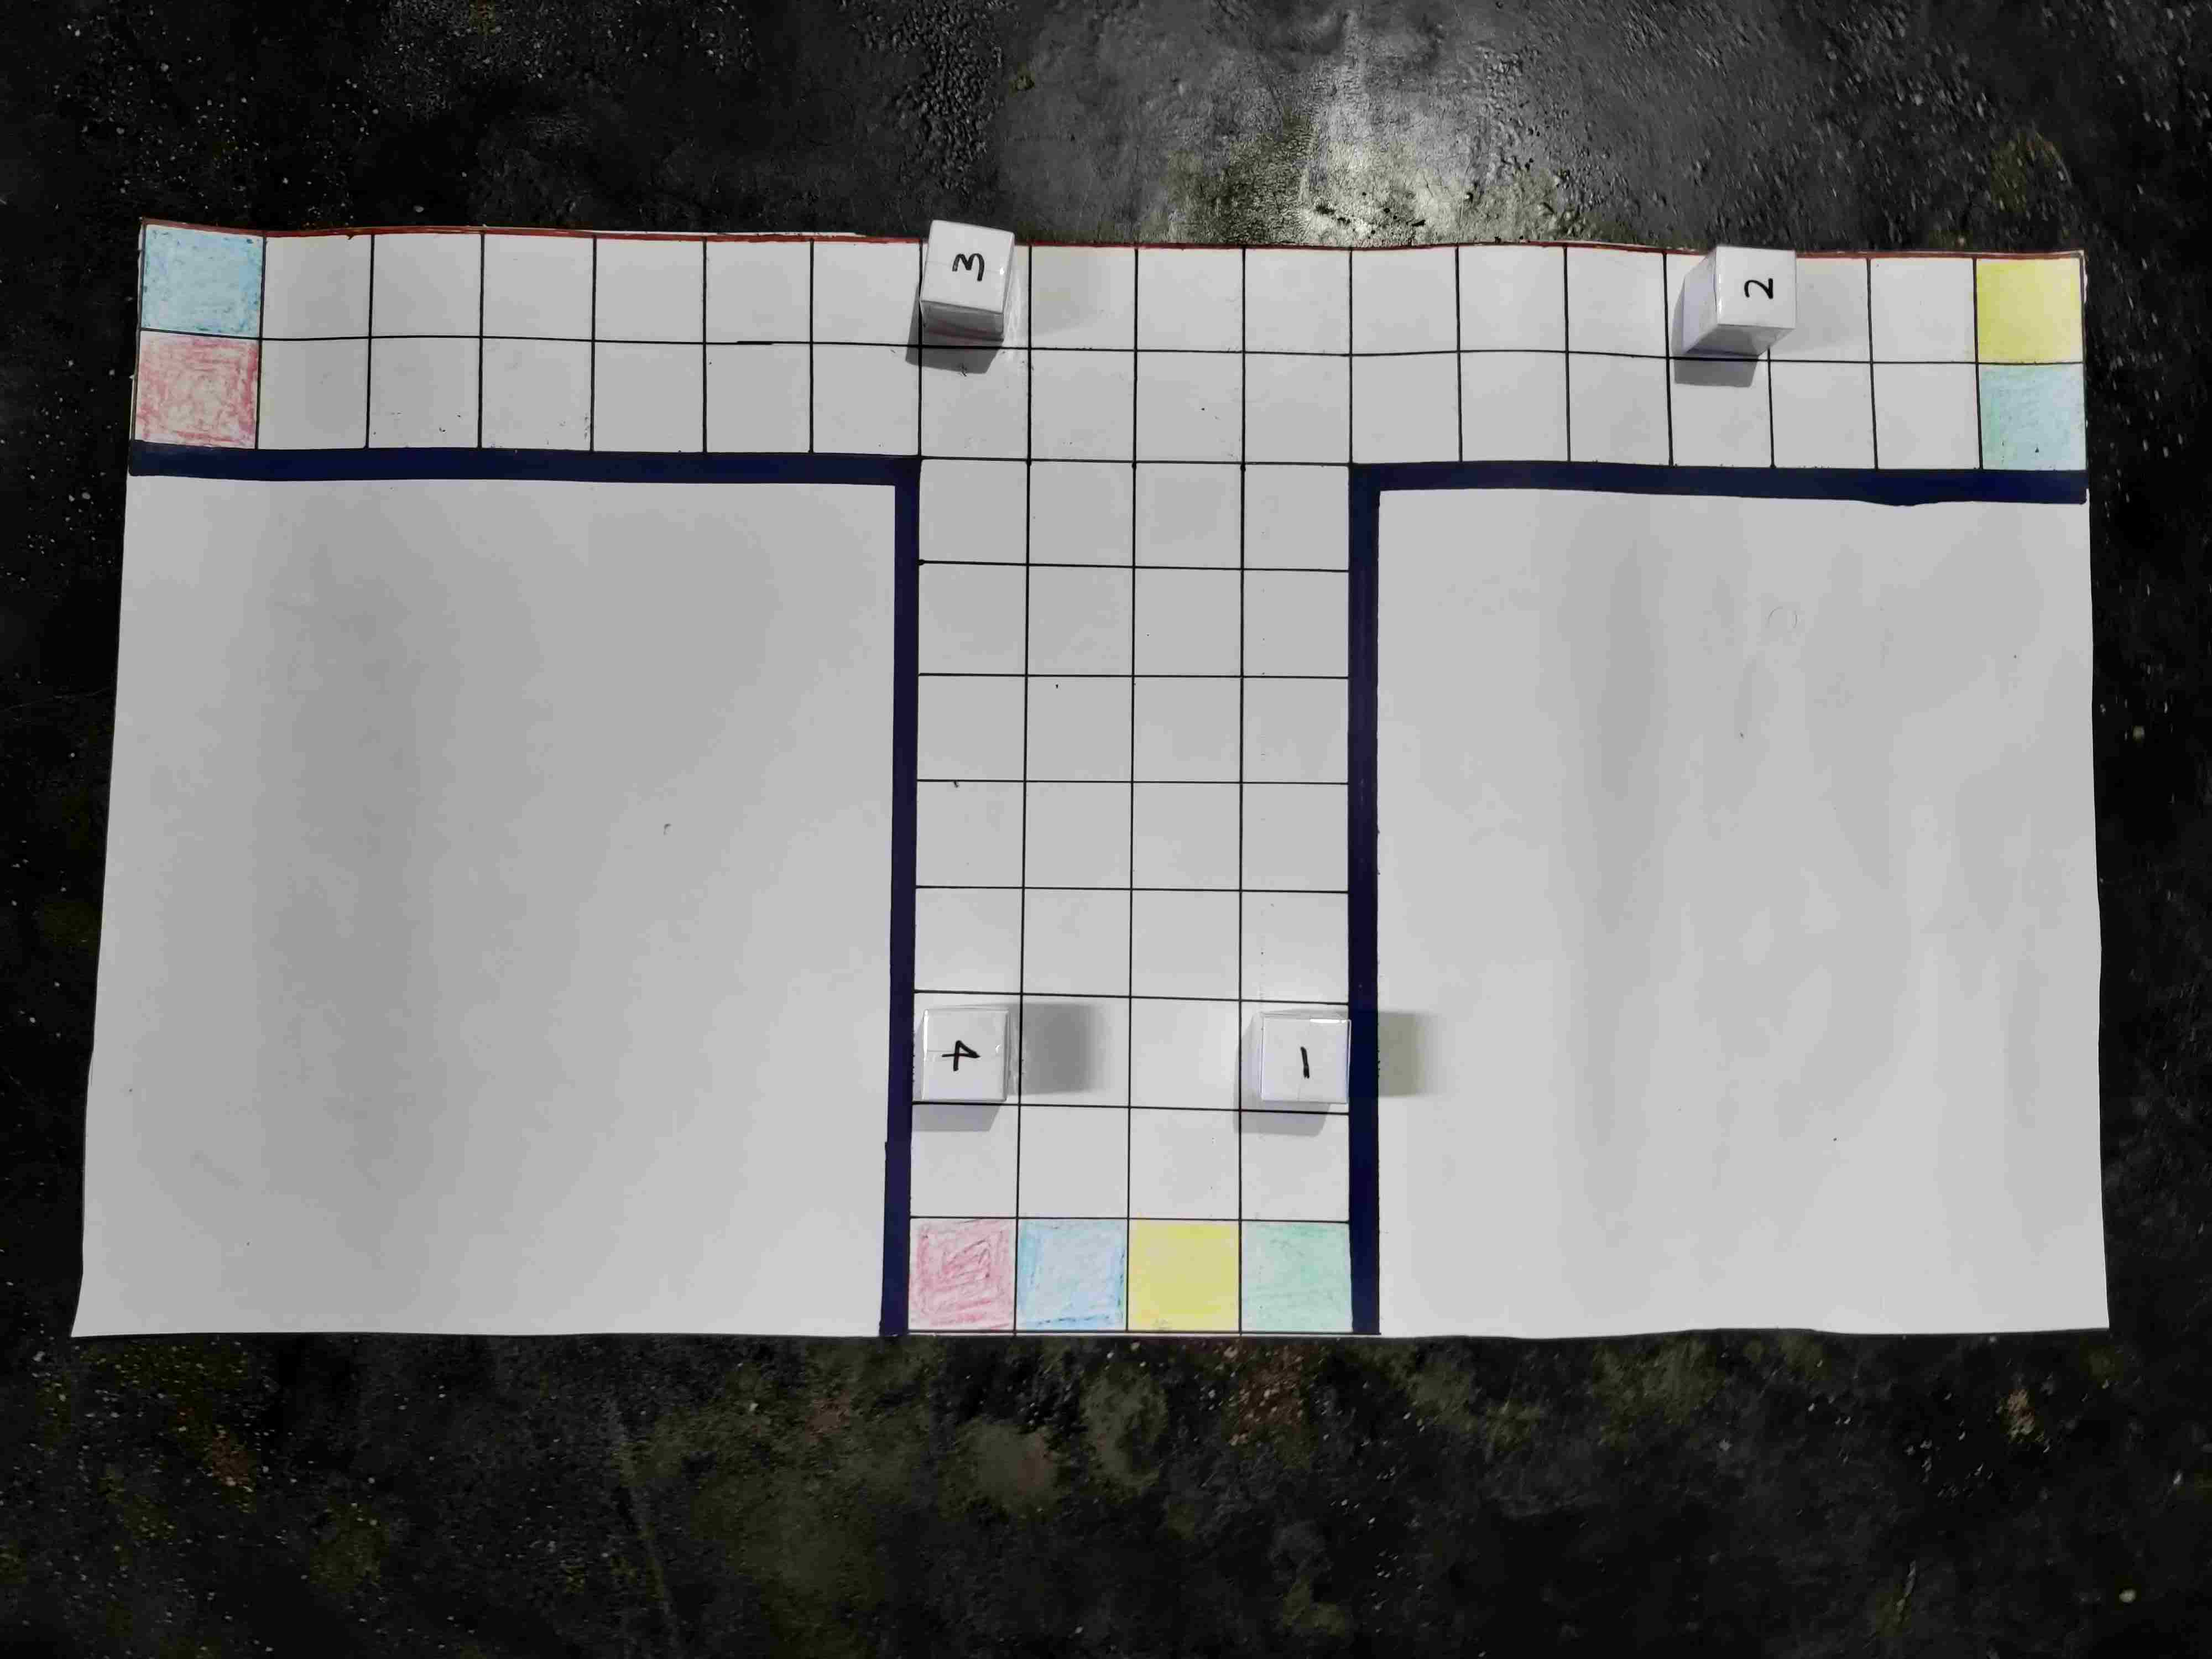arena: (120, 373, 2099, 1471)
bot: (84, 1281, 178, 1378), (1240, 718, 1325, 810), (1122, 812, 1205, 894), (84, 1392, 171, 1471)
